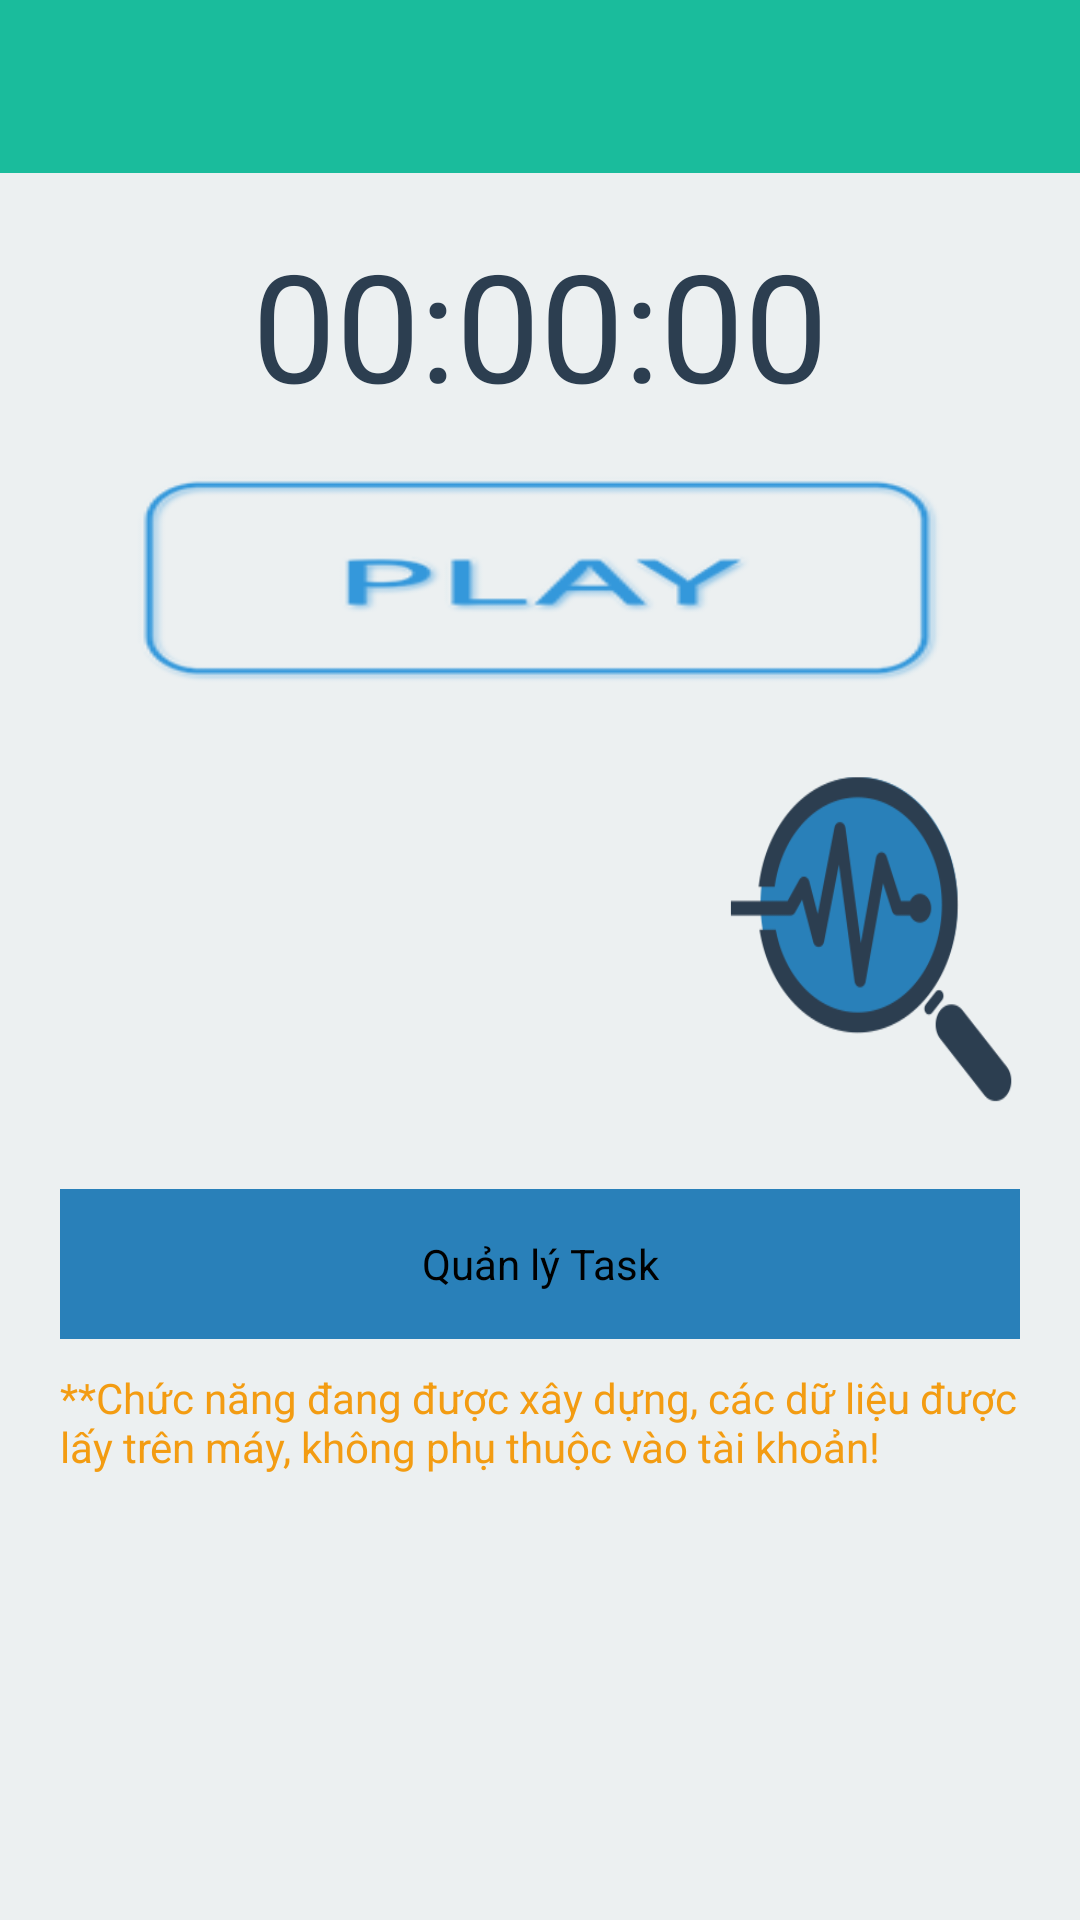

Icon click points for this 1080px x 1920px phone screenshot, format [x,y]:
analyse: [871,939]
